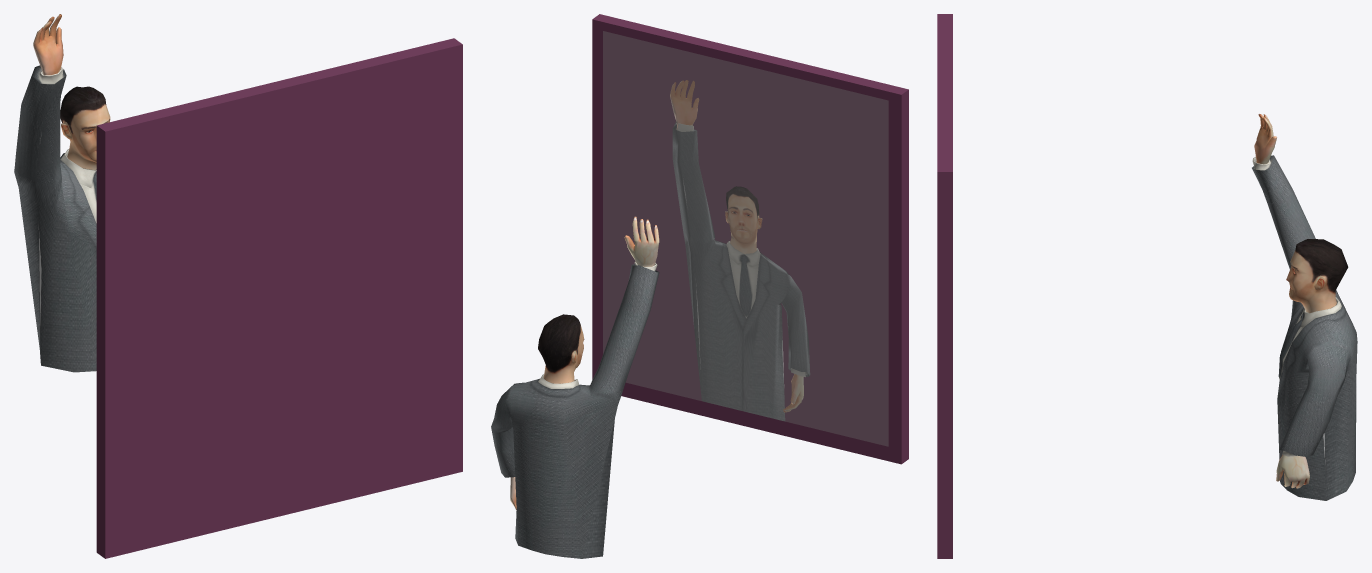
The model's file is hand_rise_man.fbx.
3 renders of one model, left to right at view 1: azimuth 30°, elevation 25°; view 2: azimuth 150°, elevation 25°; view 3: azimuth 270°, elevation 25°, orthographic. The views are drawn at different scales.
Parts seen in each view (by area): view 1: mirror3, l, b; view 2: mirror3, l (×2), b (×2); view 3: l, mirror3, b.
Part boxes in pixels (x1=…): mirror3: x1=96, y1=38, x2=462, y2=558; l: x1=14, y1=65, x2=96, y2=372; b: x1=33, y1=14, x2=110, y2=170; mirror3: x1=592, y1=14, x2=908, y2=464; l (×2): x1=491, y1=122, x2=810, y2=558; b (×2): x1=510, y1=80, x2=803, y2=509; l: x1=1252, y1=155, x2=1357, y2=500; mirror3: x1=937, y1=14, x2=952, y2=558; b: x1=1254, y1=114, x2=1348, y2=488.
Size of the model in its own units: 90.32 by 103 by 101.
3 materials, 1 textured.
